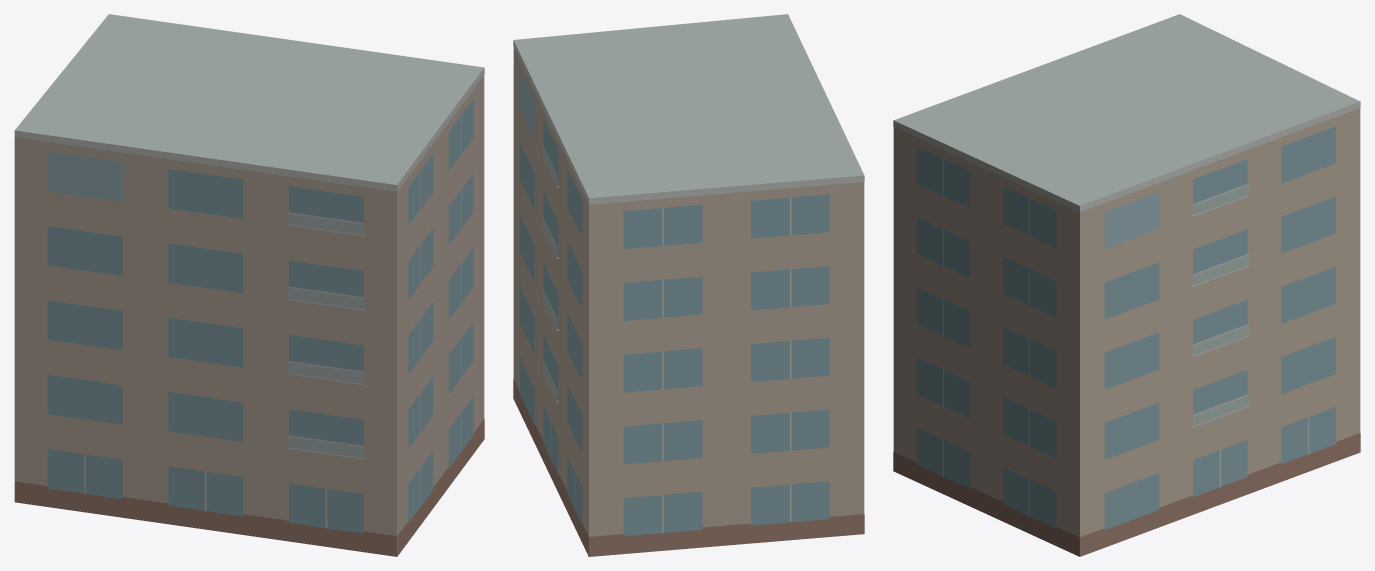
File: survey-upis-32782213.glb
3 renders of one model, left to right at view 1: azimuth 30°, elevation 25°; view 2: azimuth 150°, elevation 25°; view 3: azimuth 270°, elevation 25°, orthographic. The views are drawn at different scales.
Visible parts, largest first — view 1: survey-upis-32782213.tmp; view 2: survey-upis-32782213.tmp; view 3: survey-upis-32782213.tmp.
Boxes of the visible parts, x1,y1,x2,y2 form: survey-upis-32782213.tmp: [14, 14, 484, 556]; survey-upis-32782213.tmp: [513, 14, 864, 556]; survey-upis-32782213.tmp: [893, 14, 1360, 556].
Size of the model in its own units: 15.61 by 13.3 by 16.05.
